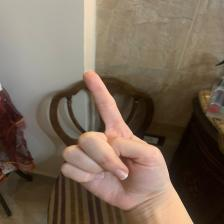one: (63, 67, 177, 210)
